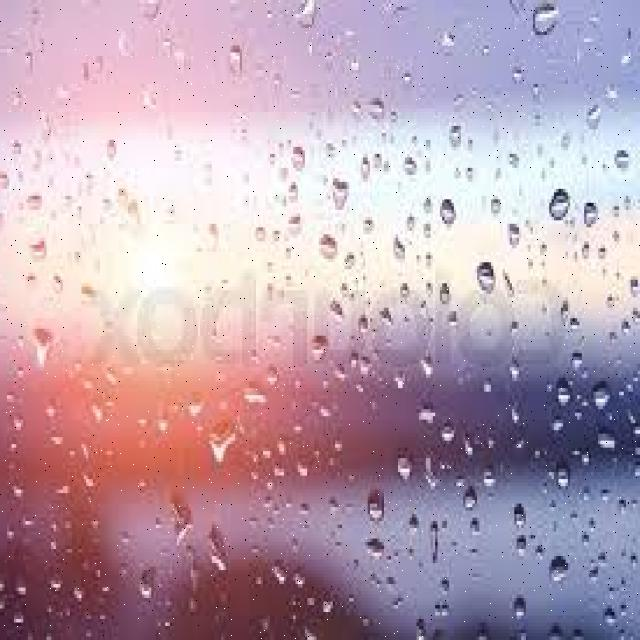raindrop: (200, 414, 242, 478), (466, 252, 500, 310), (24, 318, 54, 382), (544, 179, 574, 231), (326, 170, 357, 218), (528, 0, 560, 44), (364, 478, 390, 528), (312, 223, 340, 269), (587, 374, 614, 421), (545, 548, 572, 595), (434, 190, 460, 238), (356, 530, 386, 571), (550, 368, 576, 414), (433, 417, 460, 455), (304, 328, 332, 363), (392, 444, 414, 488), (457, 479, 480, 518), (594, 422, 621, 455), (506, 592, 532, 626), (222, 40, 244, 77), (554, 454, 573, 496), (580, 194, 600, 233)
